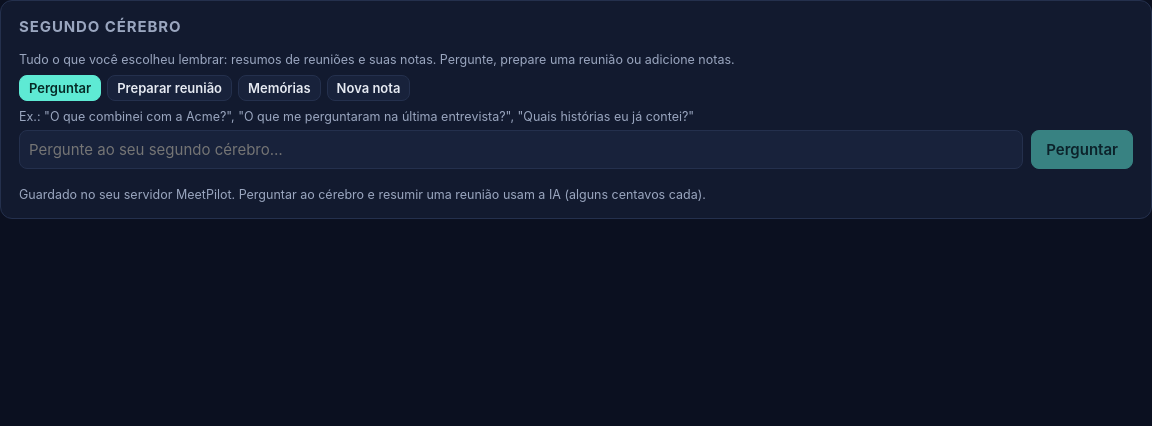
BrainPanel › shows facts already in My context as added
Click the tab "Memórias".
click(279, 88)  # box [238,75,321,101]
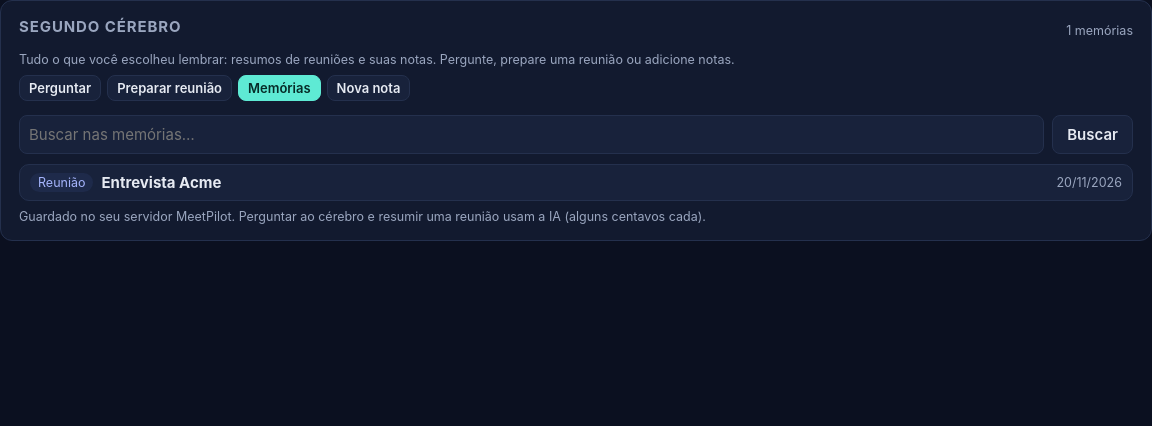
Click the text "Entrevista Acme".
click(162, 182)  # box [102,173,222,192]
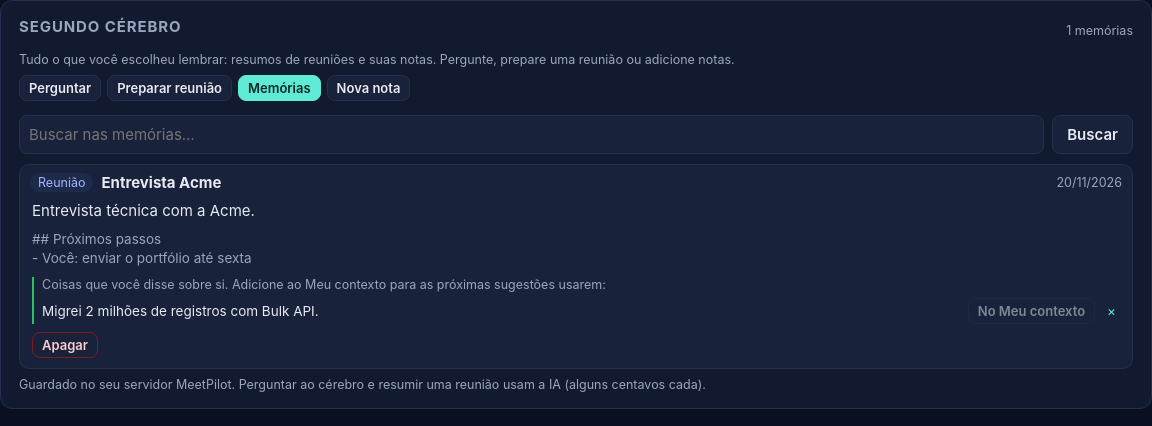
Check: the button "No Meu contexto" is disabled, box [968,298,1095,324]
